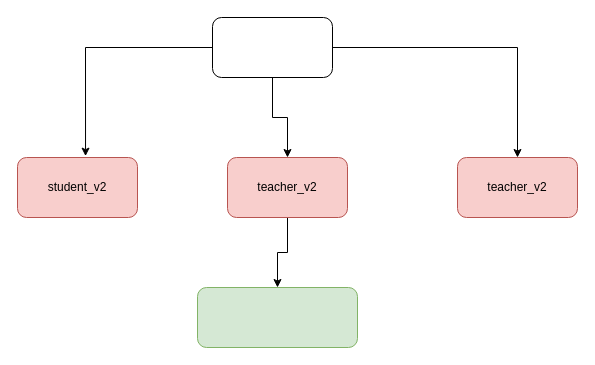
Some shapes in this 595 by 365 pixel diagram are drawn without their labels. The shapes that lost their labels are listed below. From the top down, each one's box as (x1, y1, x2, y2) in pixels, then its label:
(212, 16, 332, 78): develop_v2
(196, 286, 358, 348): duy_teacher_page_v2
